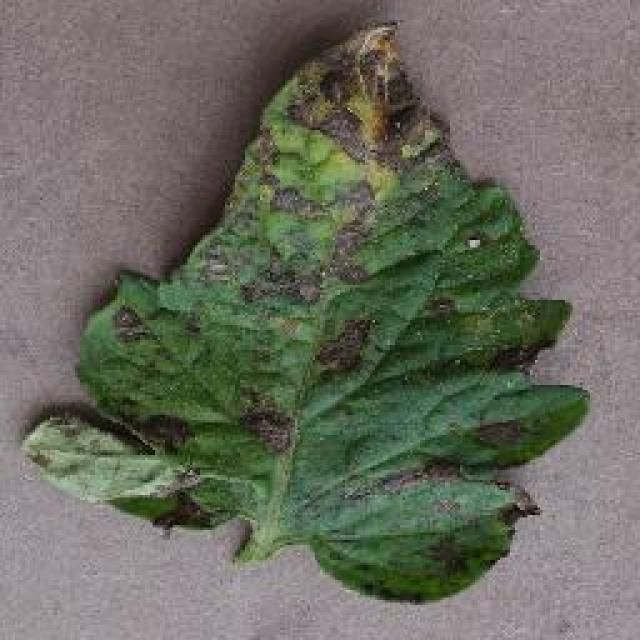Tomato_Early_Blight: (125, 18, 448, 528)
